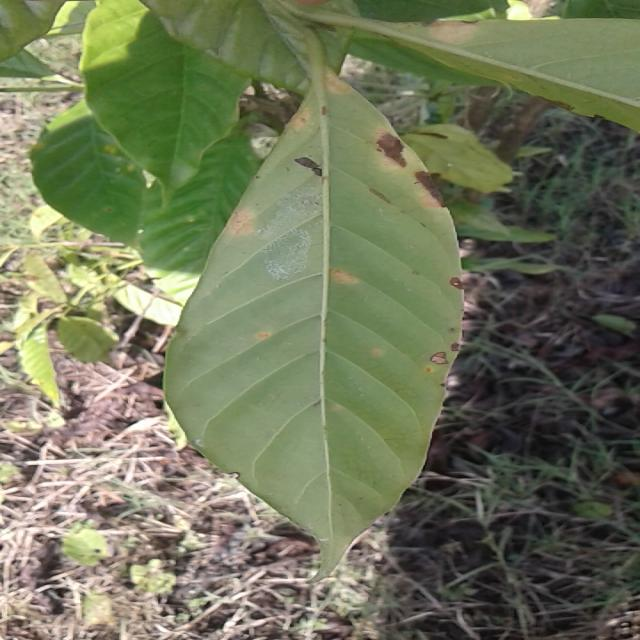Enfermedad-Roya: (163, 73, 463, 576)
